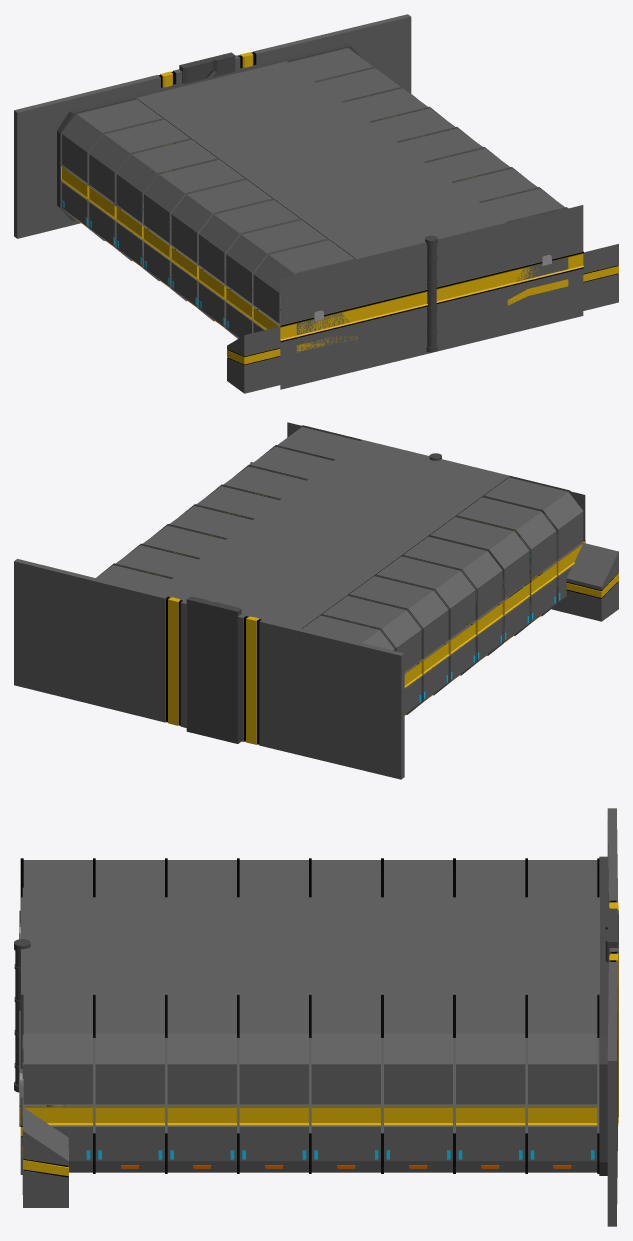
The model's file is Level1ModelsBig.fbx.
3 views of the same model, one above another, from view 1: azimuth 30°, elevation 25°; view 2: azimuth 150°, elevation 25°; view 3: azimuth 270°, elevation 25° (orthographic). The views are drawn at different scales.
Parts seen in each view (by area): view 1: Plane.005, Wall.010, Wall.009, Cube.041, WallLight_b.010, Cube.040, WallLight_b.011, Wall.019, Wall.023, Wall.025, Wall.021, Wall.015 (+13 smaller); view 2: Plane.005, Cube.040, Cube.041, Wall.021, Wall.017, Wall.015, Wall.023, Wall.019, Wall.011, Wall.025, WallLight_b.010, Wall.008 (+8 smaller); view 3: Plane.005, Wall.024, Wall.016, Wall.020, Wall.014, Wall.018, Wall.026, Wall.022, Wall.008, WallLight_b.011, Plane.004, Cube.040 (+11 smaller).
Part boxes in pixels (x1,y1,x2,y2): Plane.005: [137, 61, 506, 259]; Wall.010: [280, 243, 431, 389]; Wall.009: [436, 205, 583, 351]; Cube.041: [14, 57, 213, 238]; WallLight_b.010: [227, 313, 357, 393]; Cube.040: [208, 14, 411, 160]; WallLight_b.011: [507, 244, 618, 329]; Wall.019: [169, 178, 274, 320]; Wall.023: [114, 138, 217, 279]; Wall.025: [87, 118, 189, 256]; Wall.021: [142, 158, 244, 292]; Wall.015: [224, 218, 329, 338]; Plane.005: [154, 440, 509, 628]; Cube.040: [14, 559, 216, 736]; Cube.041: [207, 602, 404, 779]; Wall.021: [376, 554, 477, 695]; Wall.017: [428, 517, 531, 655]; Wall.015: [455, 497, 557, 635]; Wall.023: [349, 574, 450, 701]; Wall.019: [403, 536, 504, 666]; Wall.011: [482, 476, 585, 615]; Wall.025: [321, 594, 423, 715]; WallLight_b.010: [508, 535, 618, 621]; Wall.008: [261, 425, 361, 497]; Plane.005: [21, 897, 599, 995]; Wall.024: [453, 994, 527, 1173]; Wall.016: [165, 994, 239, 1173]; Wall.020: [309, 994, 383, 1173]; Wall.014: [93, 994, 167, 1173]; Wall.018: [237, 994, 311, 1173]; Wall.026: [525, 994, 599, 1173]; Wall.022: [381, 994, 455, 1173]; Wall.008: [23, 994, 95, 1172]; WallLight_b.011: [20, 1069, 68, 1207]; Plane.004: [68, 1038, 599, 1134]; Cube.040: [605, 928, 618, 1226].
Size of the model in its own units: 7796 by 2545 by 7892.
